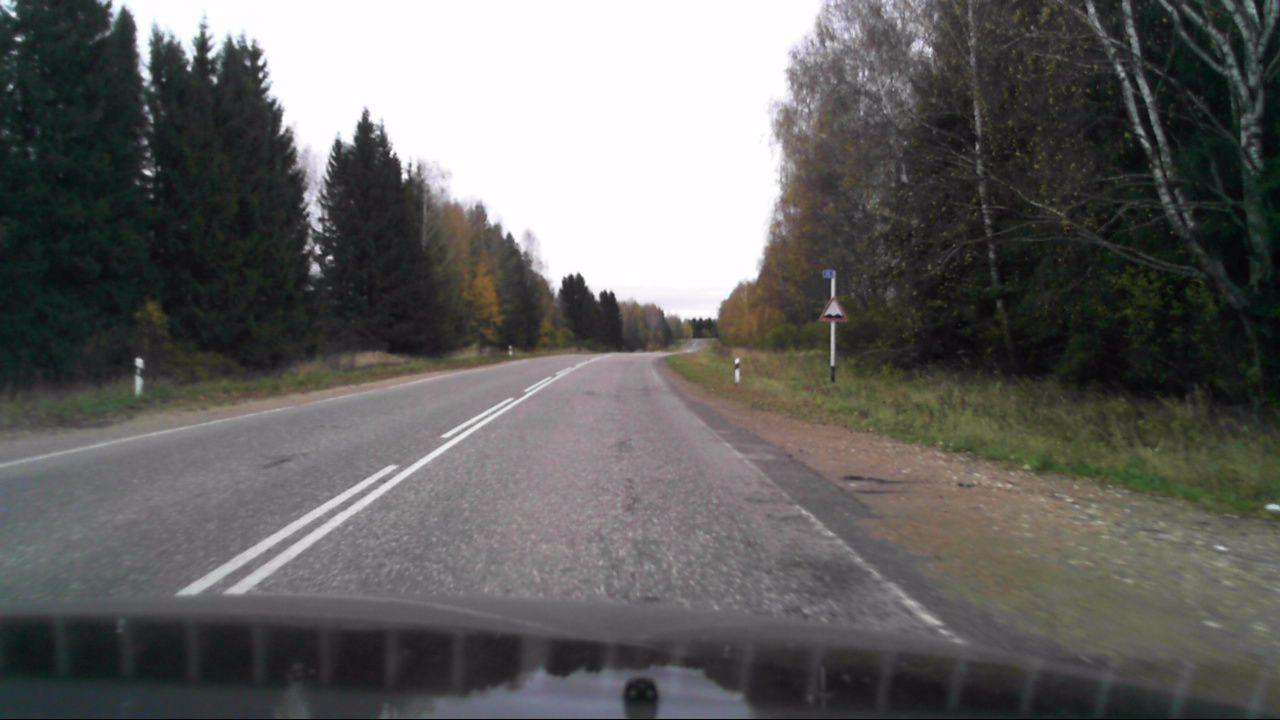1_16: (818, 296, 847, 321)
